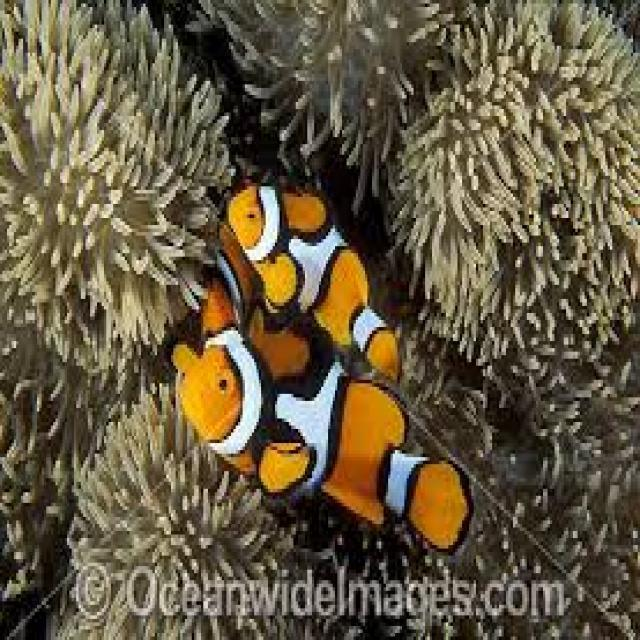ClownFish: (151, 272, 477, 573), (224, 162, 414, 385)
